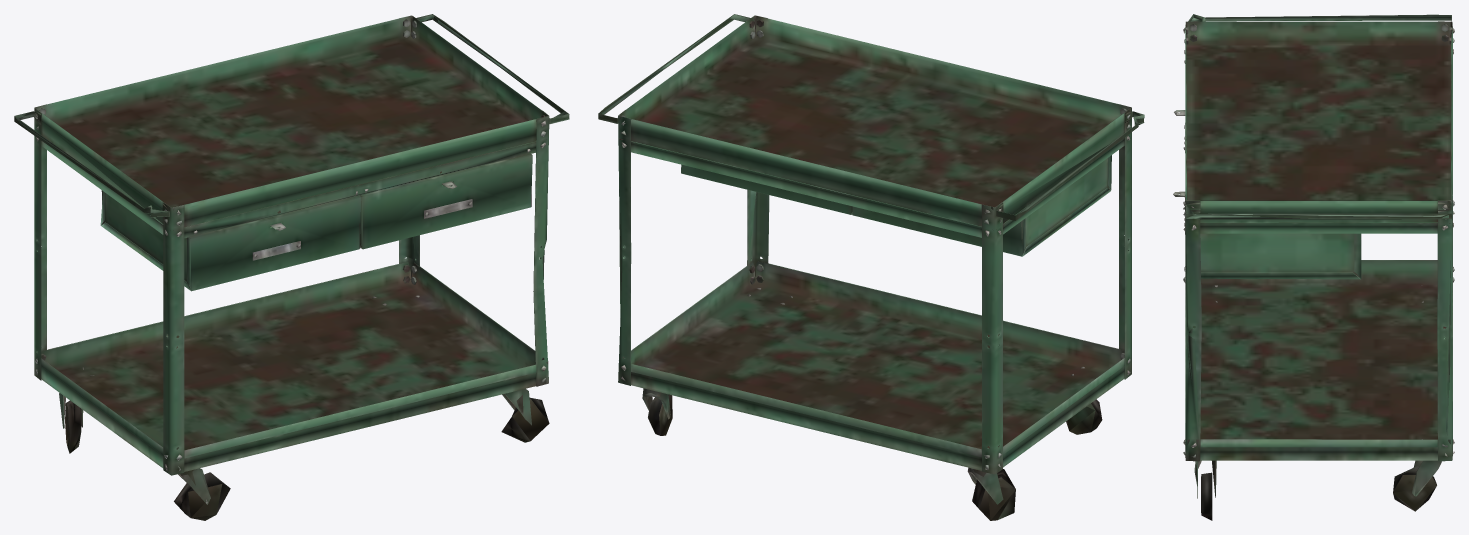
The model's file is tool_cart.glb.
The picture shows the model from 3 angles, left to right: view 1: azimuth 30°, elevation 25°; view 2: azimuth 150°, elevation 25°; view 3: azimuth 270°, elevation 25°; orthographic projection. The views are drawn at different scales.
Parts seen in each view (by area): view 1: tool_cart; view 2: tool_cart; view 3: tool_cart.
Part boxes in pixels (box(x1,y1,x2,y2)): tool_cart: box(14, 14, 569, 520); tool_cart: box(598, 14, 1144, 520); tool_cart: box(1173, 14, 1454, 520).
Bounding box in the file's own units: 1.27 × 0.9572 × 0.7522.
1 material, 1 textured.
